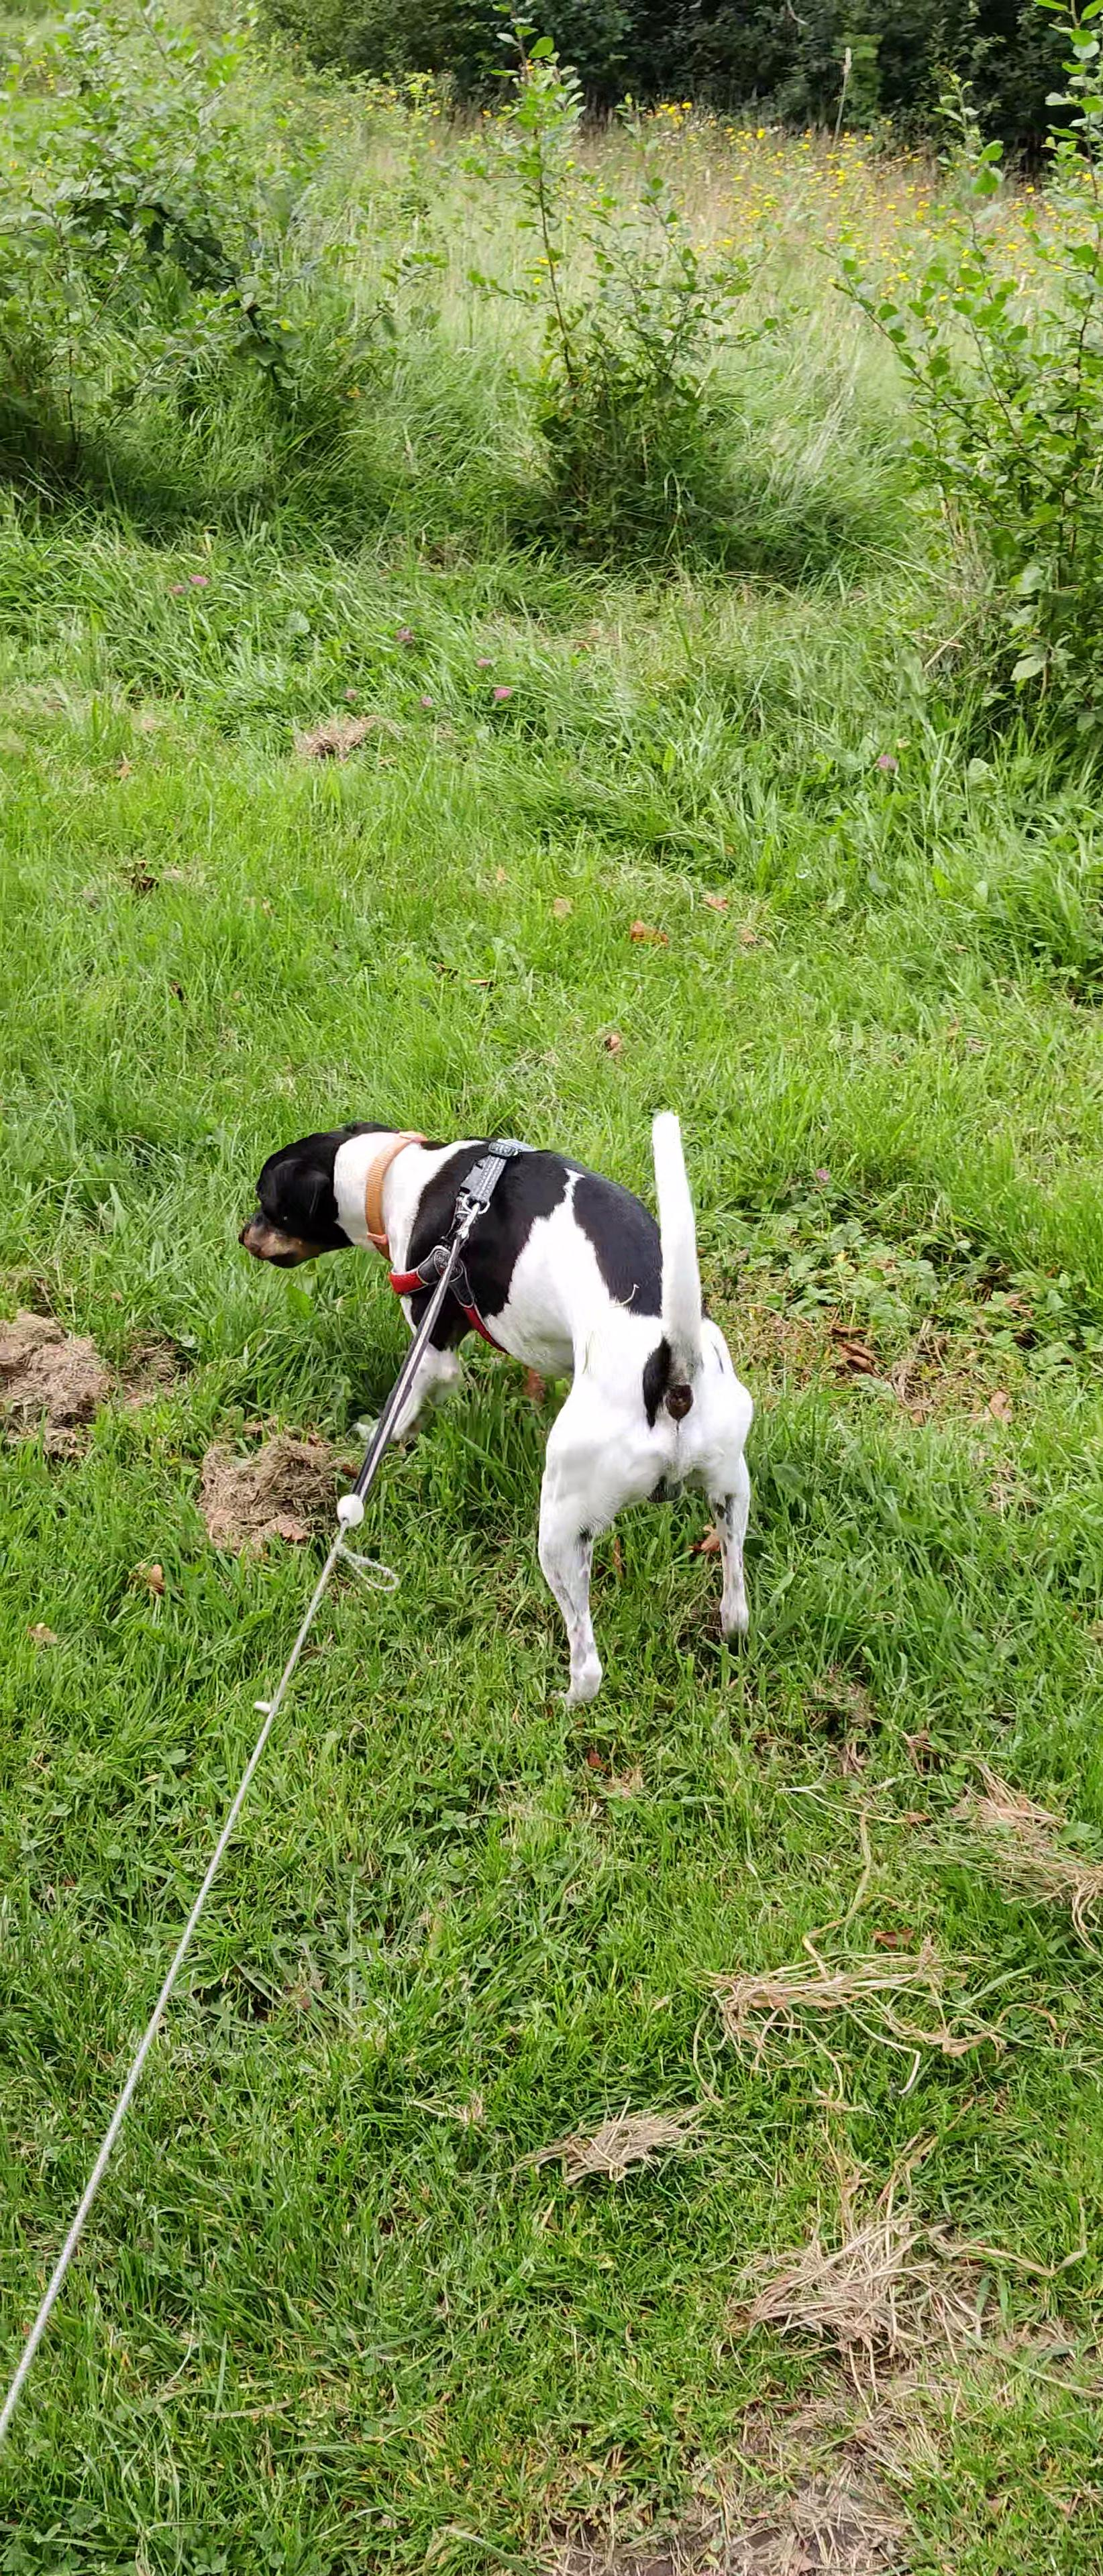Dog: (219, 1083, 778, 1746)
